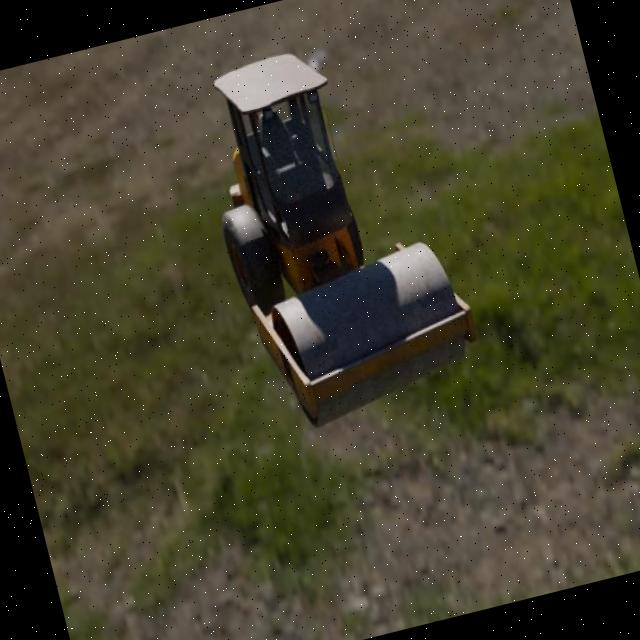Roller: (183, 25, 489, 439)
